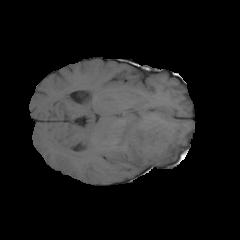glioma: (115, 111, 190, 168)
